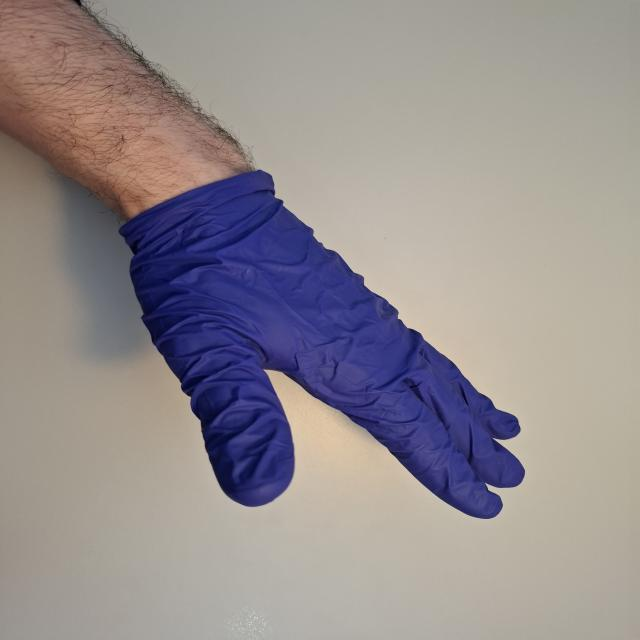glove_on: (120, 174, 529, 522)
